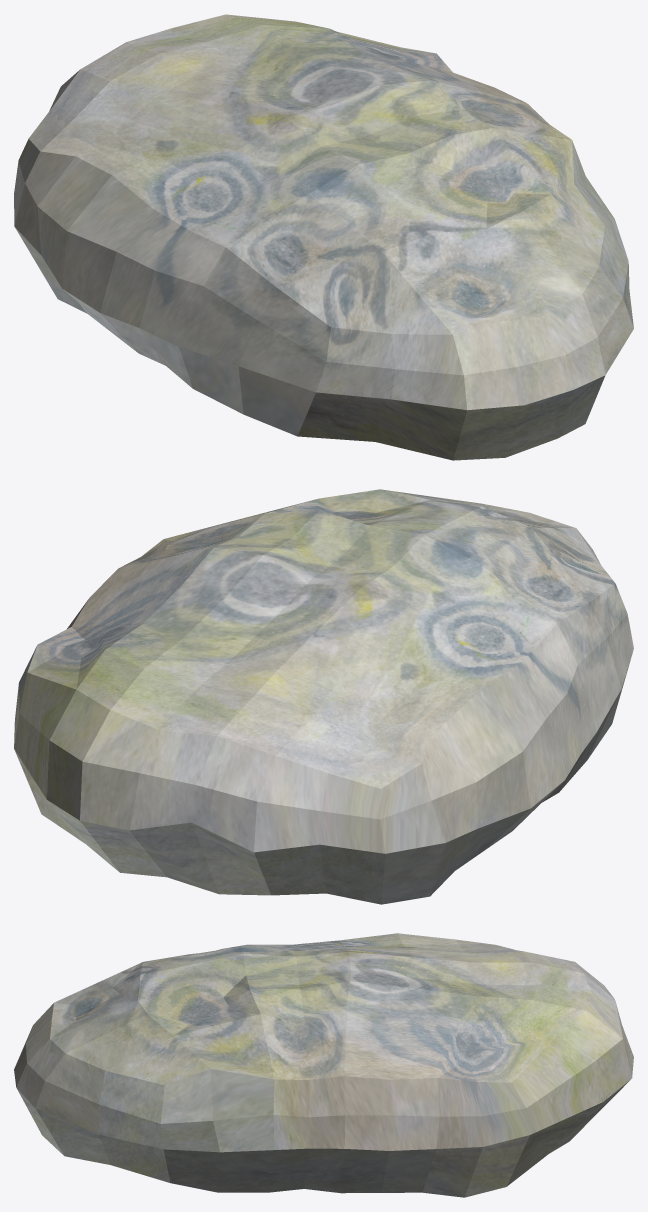
Rendered from boulderart2.fbx.
3 views of the same model, one above another, from view 1: azimuth 30°, elevation 25°; view 2: azimuth 150°, elevation 25°; view 3: azimuth 270°, elevation 25° (orthographic). The views are drawn at different scales.
Visible parts, largest first — view 1: Cube; view 2: Cube; view 3: Cube.
Part boxes in pixels (x1=…): Cube: x1=14, y1=14, x2=633, y2=460; Cube: x1=14, y1=489, x2=633, y2=904; Cube: x1=14, y1=933, x2=633, y2=1197.
Size of the model in its own units: 263 by 123 by 390.
1 material, 1 textured.
